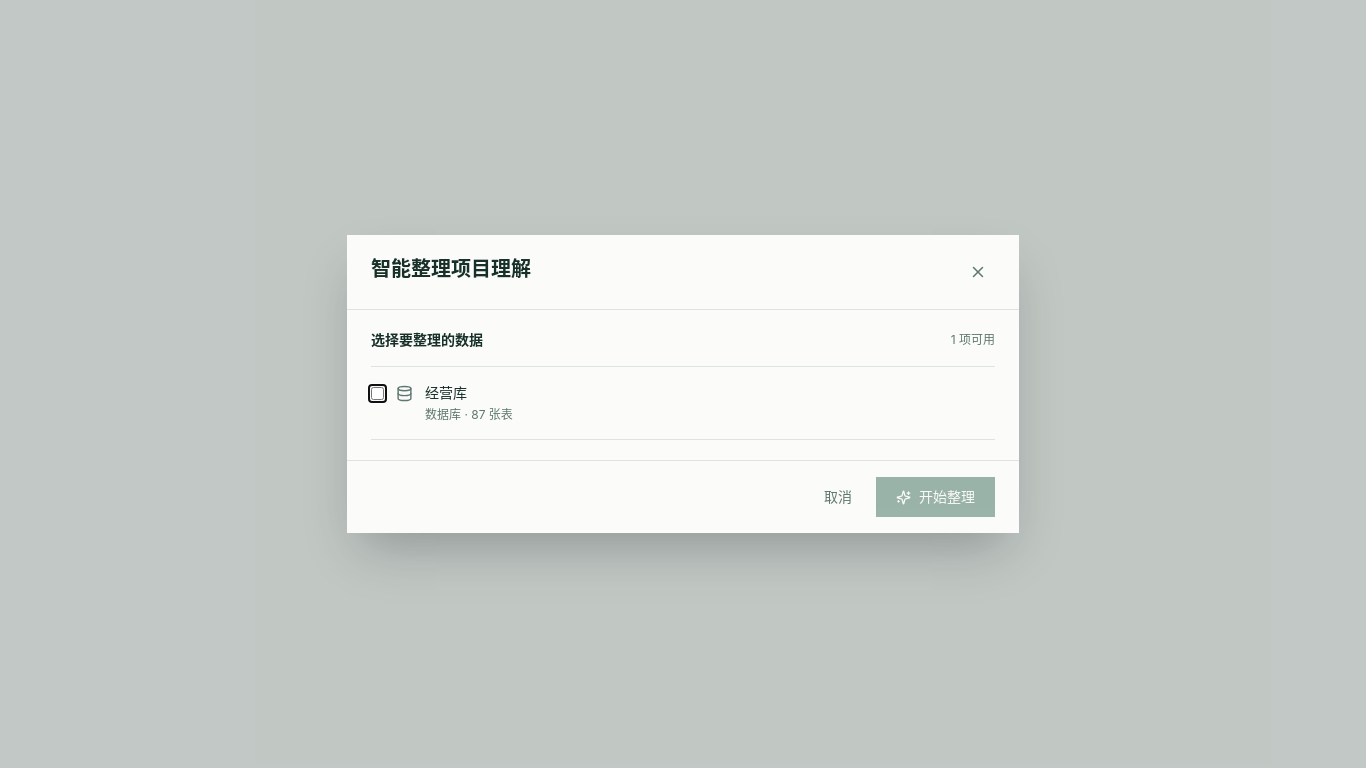
SemanticGovernanceDialog › refreshes a ready database directory on open without generating recommendations
The width and height of the screenshot is (1366, 768).
Check: the text "数据库 · 87 张表" is shown, box [425,407,513,423]
Click the checkbox named "选择数据来源 经营库" at (378, 394), box [371,387,384,400]
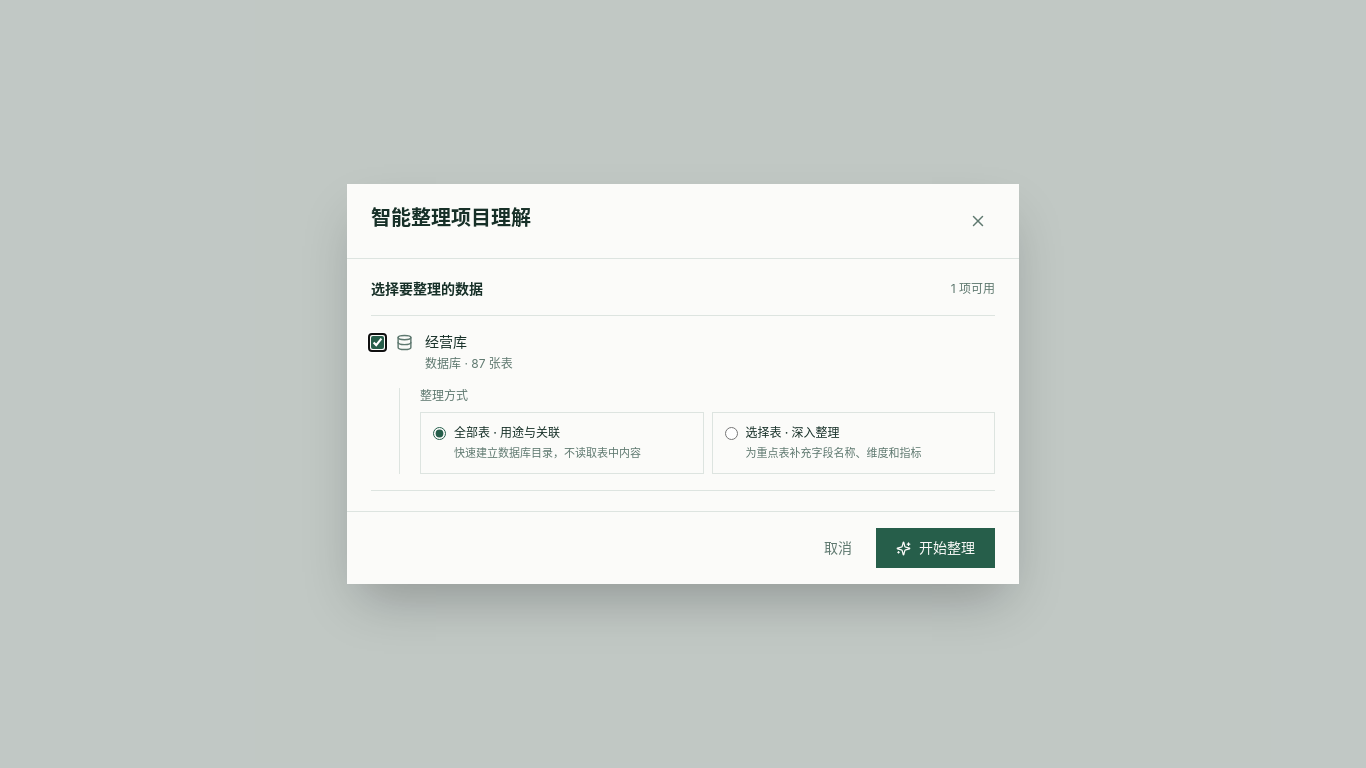
Click the radio button labelled "选择表 · 深入整理" at (731, 434), box [724,427,738,440]
(page scrolled)
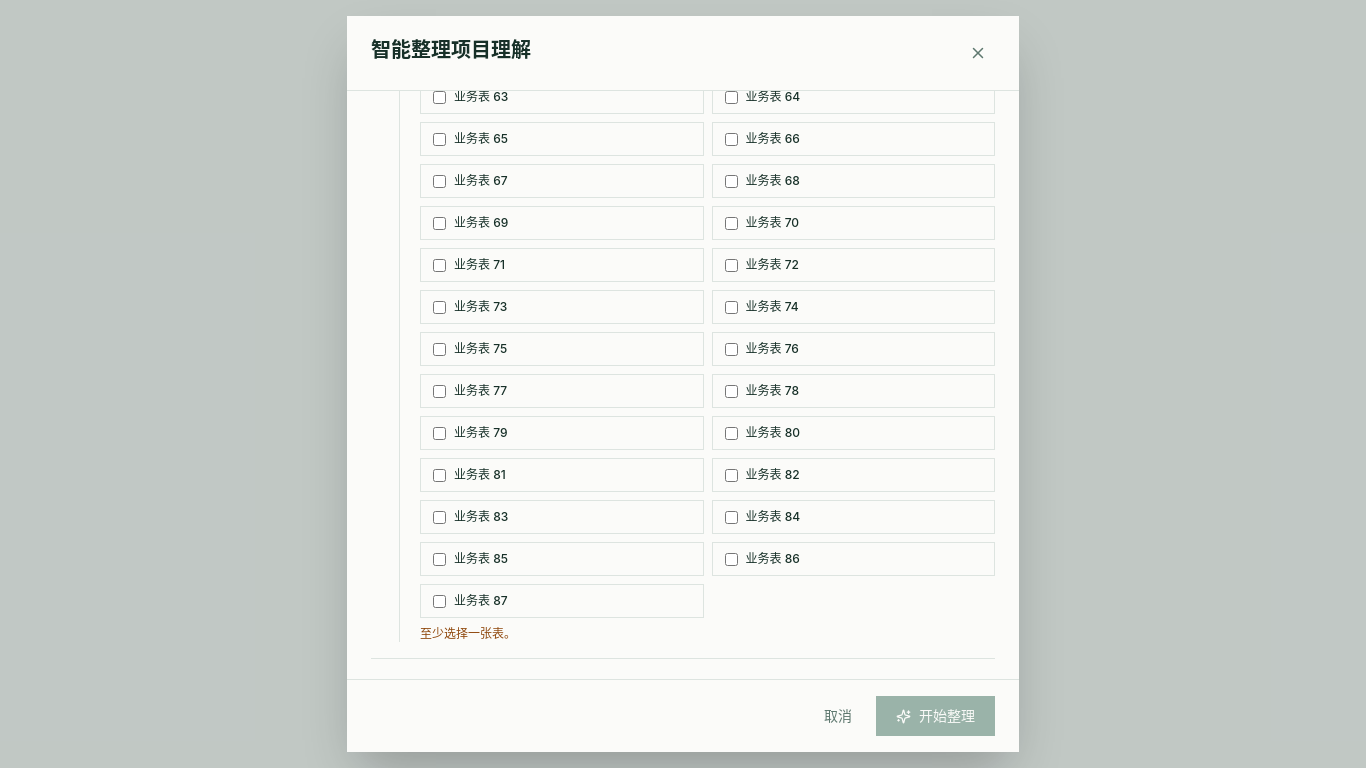
Check: the checkbox named "选择 经营库 中的表 业务表 87" is shown, box [433,594,446,608]
